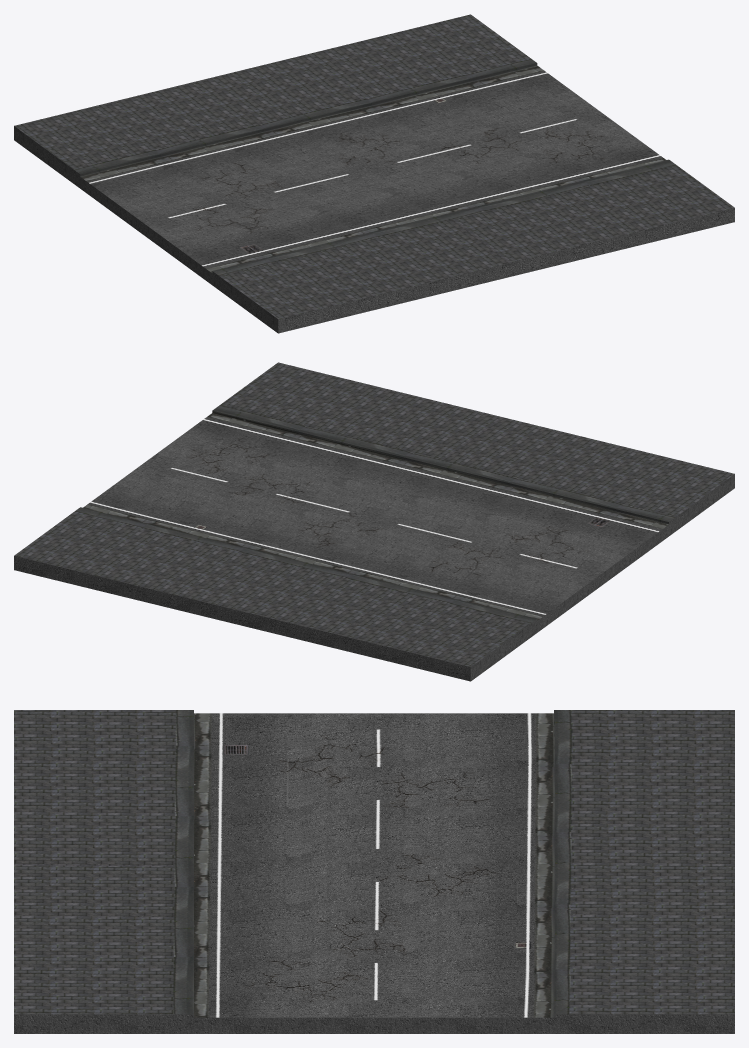
The model's file is Road_01_Straight.fbx.
The picture shows the model from 3 angles, top to bottom: view 1: azimuth 30°, elevation 25°; view 2: azimuth 150°, elevation 25°; view 3: azimuth 270°, elevation 25°; orthographic projection. The views are drawn at different scales.
Parts seen in each view (by area): view 1: Road_Straight; view 2: Road_Straight; view 3: Road_Straight.
Part boxes in pixels (x1,y1,x2,y2): Road_Straight: [14, 14, 734, 333]; Road_Straight: [14, 362, 734, 681]; Road_Straight: [14, 710, 734, 1033].
Size of the model in its own units: 2000 by 60 by 2003.
